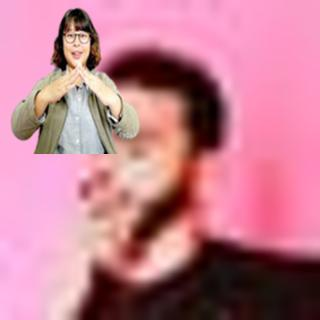HOME: (42, 59, 115, 108)
